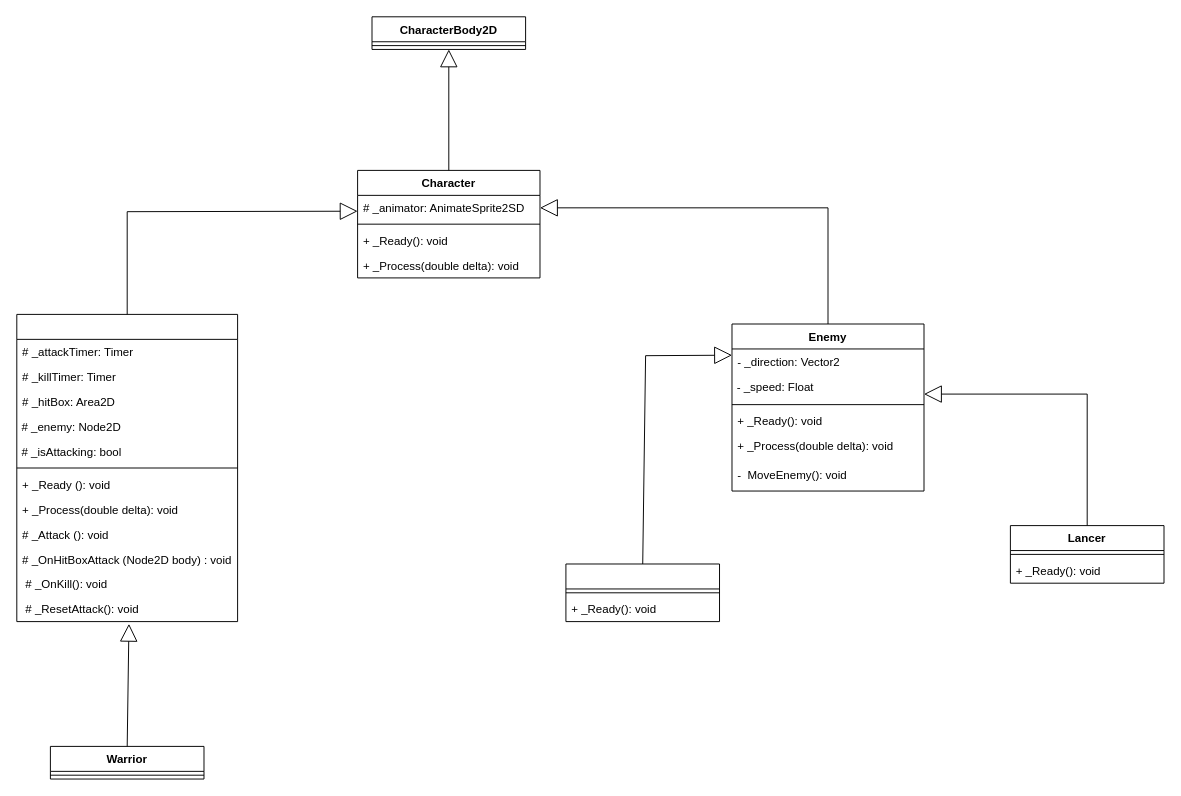
Image size: 1181x796. Some labels were removed from this diagram. Each missing label, with the box of its shape:
BlackArcher: (565, 563, 720, 622)
Hero: (16, 313, 238, 622)
